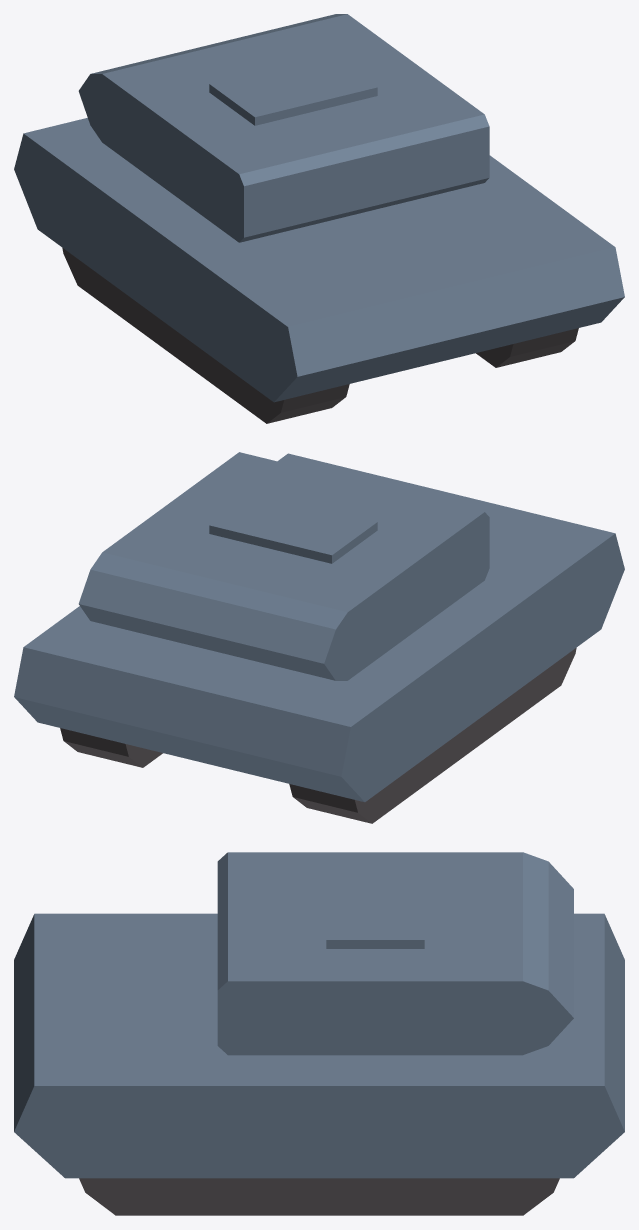
File: tank.glb
3 views of the same model, one above another, from view 1: azimuth 30°, elevation 25°; view 2: azimuth 150°, elevation 25°; view 3: azimuth 270°, elevation 25° (orthographic). The views are drawn at different scales.
Visible parts, largest first — view 1: Main, Turret; view 2: Main, Turret; view 3: Main, Turret.
Part boxes in pixels (x1,y1,x2,y2): Main: (14, 118, 624, 423); Turret: (78, 14, 489, 242); Main: (14, 453, 624, 823); Turret: (78, 452, 489, 680); Main: (14, 913, 624, 1215); Turret: (217, 852, 573, 1055).
Bounding box in the file's own units: 4 × 2.5 × 6.
